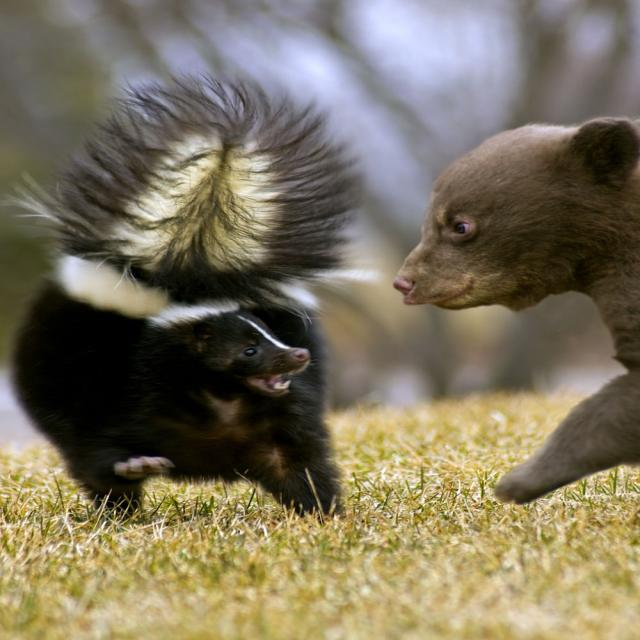Skunk: (0, 97, 402, 527)
